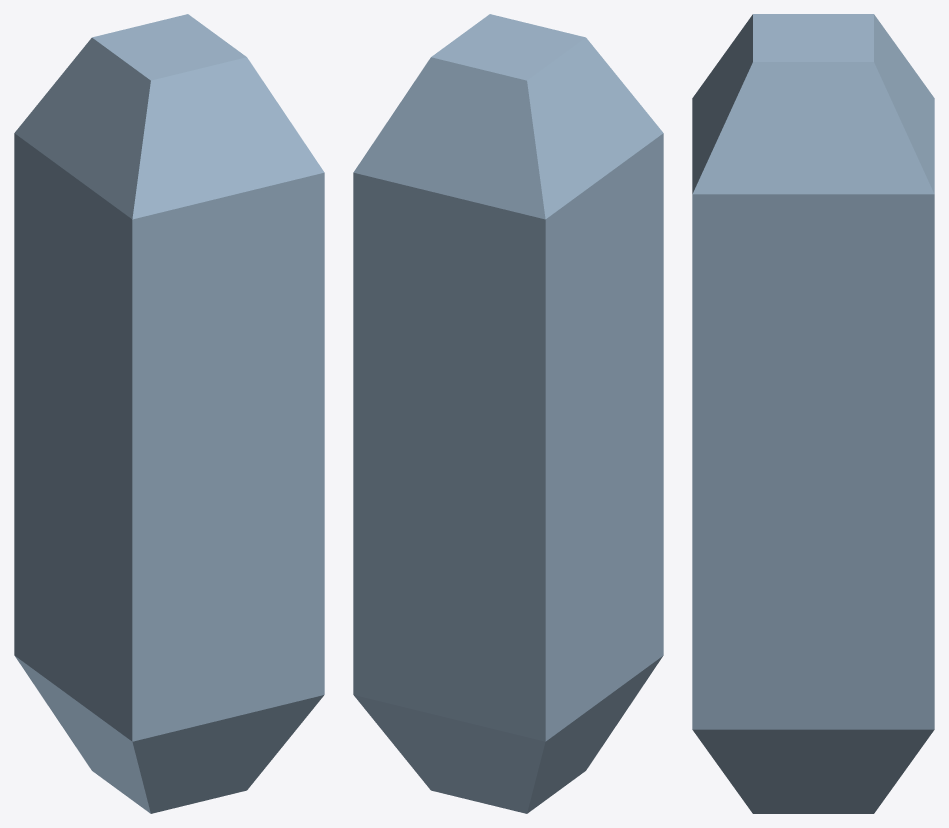
Rendered from GuardUpperLeg.fbx.
3 views of the same model, side by side, from view 1: azimuth 30°, elevation 25°; view 2: azimuth 150°, elevation 25°; view 3: azimuth 270°, elevation 25° (orthographic). The views are drawn at different scales.
Parts seen in each view (by area): view 1: GuardUpperLeg; view 2: GuardUpperLeg; view 3: GuardUpperLeg.
Part boxes in pixels (box(x1,y1,x2,y2)): GuardUpperLeg: box(14, 14, 324, 813); GuardUpperLeg: box(353, 14, 663, 813); GuardUpperLeg: box(692, 14, 934, 813).
Bounding box in the file's own units: 0.1568 × 0.5717 × 0.1668.
